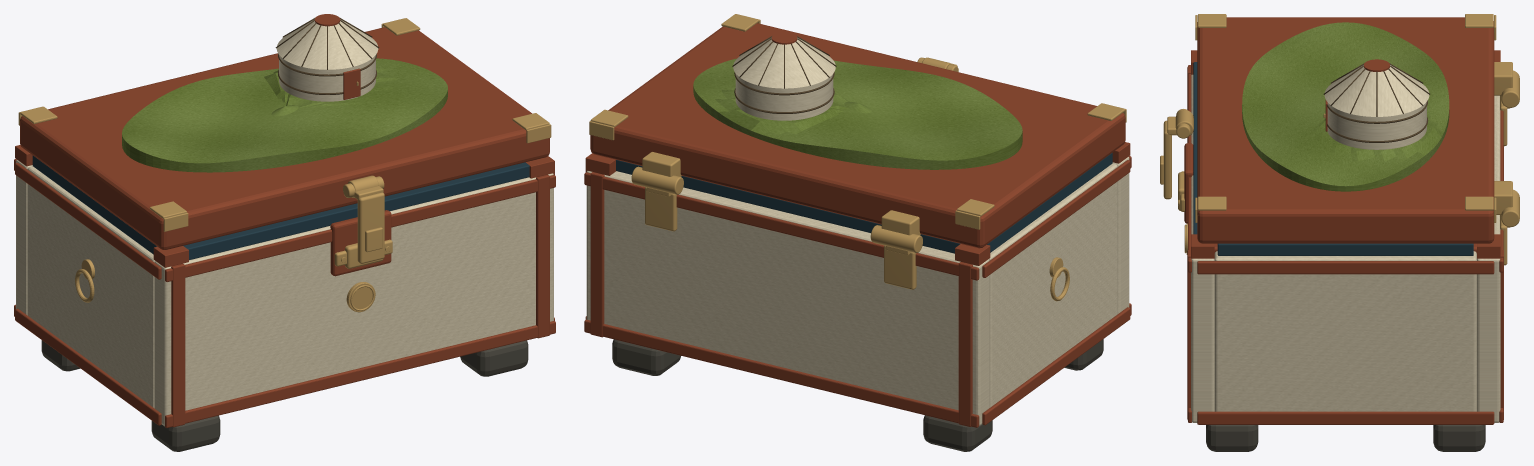
The model's file is mongolia.glb.
The picture shows the model from 3 angles, left to right: view 1: azimuth 30°, elevation 25°; view 2: azimuth 150°, elevation 25°; view 3: azimuth 270°, elevation 25°; orthographic projection. The views are drawn at different scales.
Parts seen in each view (by area): view 1: Felt / long panel, Lid / polished slab, Steppe / rolling oval, Felt / side panel, Seam / long, Frame / long rail, Frame / long rail.001, Ger / peaked felt roof, Ger / felt wall, Frame / corner binding, Frame / corner binding.002, Frame / side rail (+9 smaller); view 2: Felt / long panel.001, Lid / polished slab, Steppe / rolling oval, Felt / side panel, Frame / long rail.002, Frame / long rail.003, Ger / peaked felt roof, Seam / long.001, Ger / felt wall, Frame / corner binding.001, Frame / corner binding.003, Frame / side rail (+12 smaller); view 3: Lid / polished slab, Felt / side panel.001, Steppe / rolling oval, Felt / long panel.001, Frame / side rail.002, Frame / side rail.003, Felt / long panel, Ger / peaked felt roof, Seam / side.001, Ger / felt wall, Stone foot.002, Stone foot.003 (+17 smaller).
Boxes of the visible parts, x1=… form: Felt / long panel: x1=154, y1=173, x2=553, y2=426; Lid / polished slab: x1=20, y1=27, x2=549, y2=249; Steppe / rolling oval: x1=122, y1=58, x2=447, y2=172; Felt / side panel: x1=27, y1=166, x2=154, y2=408; Seam / long: x1=183, y1=162, x2=529, y2=259; Frame / long rail: x1=165, y1=321, x2=555, y2=427; Frame / long rail.001: x1=165, y1=175, x2=555, y2=281; Ger / peaked felt roof: x1=276, y1=19, x2=378, y2=69; Ger / felt wall: x1=279, y1=55, x2=375, y2=101; Frame / corner binding: x1=171, y1=263, x2=185, y2=427; Frame / corner binding.002: x1=536, y1=174, x2=549, y2=338; Frame / side rail: x1=15, y1=308, x2=161, y2=425; Felt / long panel.001: x1=586, y1=170, x2=989, y2=425; Lid / polished slab: x1=590, y1=23, x2=1125, y2=248; Steppe / rolling oval: x1=693, y1=58, x2=1022, y2=169; Felt / side panel: x1=989, y1=163, x2=1117, y2=407; Frame / long rail.002: x1=584, y1=319, x2=979, y2=427; Frame / long rail.003: x1=584, y1=172, x2=979, y2=280; Ger / peaked felt roof: x1=733, y1=37, x2=835, y2=88; Seam / long.001: x1=616, y1=160, x2=960, y2=253; Ger / felt wall: x1=735, y1=74, x2=833, y2=120; Frame / corner binding.001: x1=958, y1=262, x2=972, y2=426; Frame / corner binding.003: x1=590, y1=172, x2=604, y2=337; Frame / side rail: x1=982, y1=307, x2=1130, y2=425; Lid / polished slab: x1=1197, y1=17, x2=1494, y2=243; Felt / side panel.001: x1=1214, y1=251, x2=1476, y2=411; Steppe / rolling oval: x1=1242, y1=22, x2=1449, y2=191; Felt / long panel.001: x1=1477, y1=95, x2=1500, y2=422; Frame / side rail.002: x1=1197, y1=411, x2=1494, y2=424; Frame / side rail.003: x1=1197, y1=261, x2=1494, y2=274; Felt / long panel: x1=1191, y1=74, x2=1214, y2=422; Ger / peaked felt roof: x1=1324, y1=65, x2=1429, y2=116; Seam / side.001: x1=1217, y1=243, x2=1473, y2=255; Ger / felt wall: x1=1327, y1=102, x2=1426, y2=149; Stone foot.002: x1=1206, y1=425, x2=1258, y2=451; Stone foot.003: x1=1433, y1=425, x2=1485, y2=451.
Bounding box in the file's own units: 3.82 × 2.91 × 2.88.
7 materials, 2 textured.
